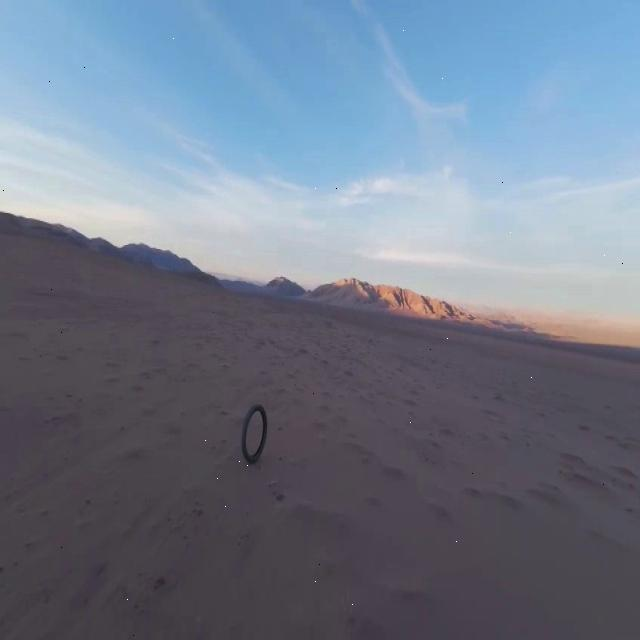Tire: (242, 404, 267, 462)
